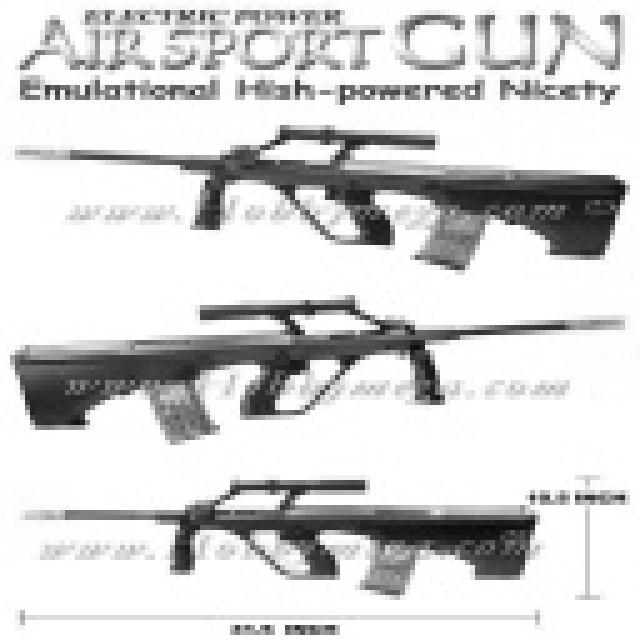Rifle: (0, 114, 640, 286), (0, 296, 640, 446), (12, 469, 594, 589), (424, 535, 446, 561)
